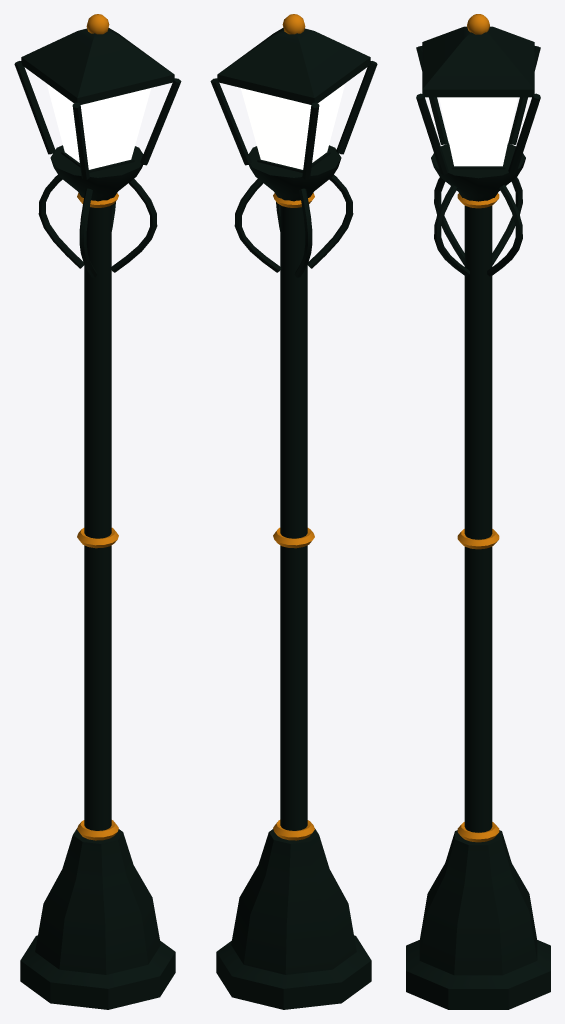
The model's file is LampPost.fbx.
3 renders of one model, left to right at view 1: azimuth 30°, elevation 25°; view 2: azimuth 150°, elevation 25°; view 3: azimuth 270°, elevation 25°, orthographic.
Parts seen in each view (by area): view 1: LampPost; view 2: LampPost; view 3: LampPost.
Part boxes in pixels (x1,y1,x2,y2): LampPost: (14, 14, 181, 1009); LampPost: (210, 14, 377, 1009); LampPost: (406, 14, 550, 1009).
Size of the model in its own units: 1.37 by 10.04 by 1.37.
